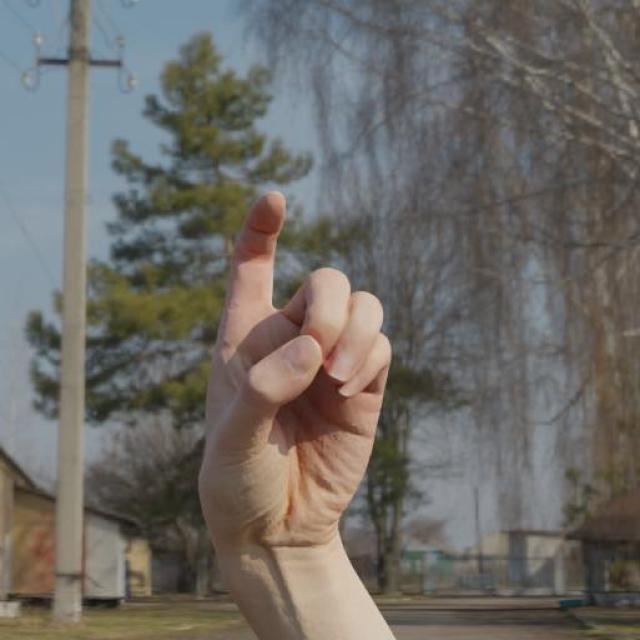X: (194, 180, 396, 555)
